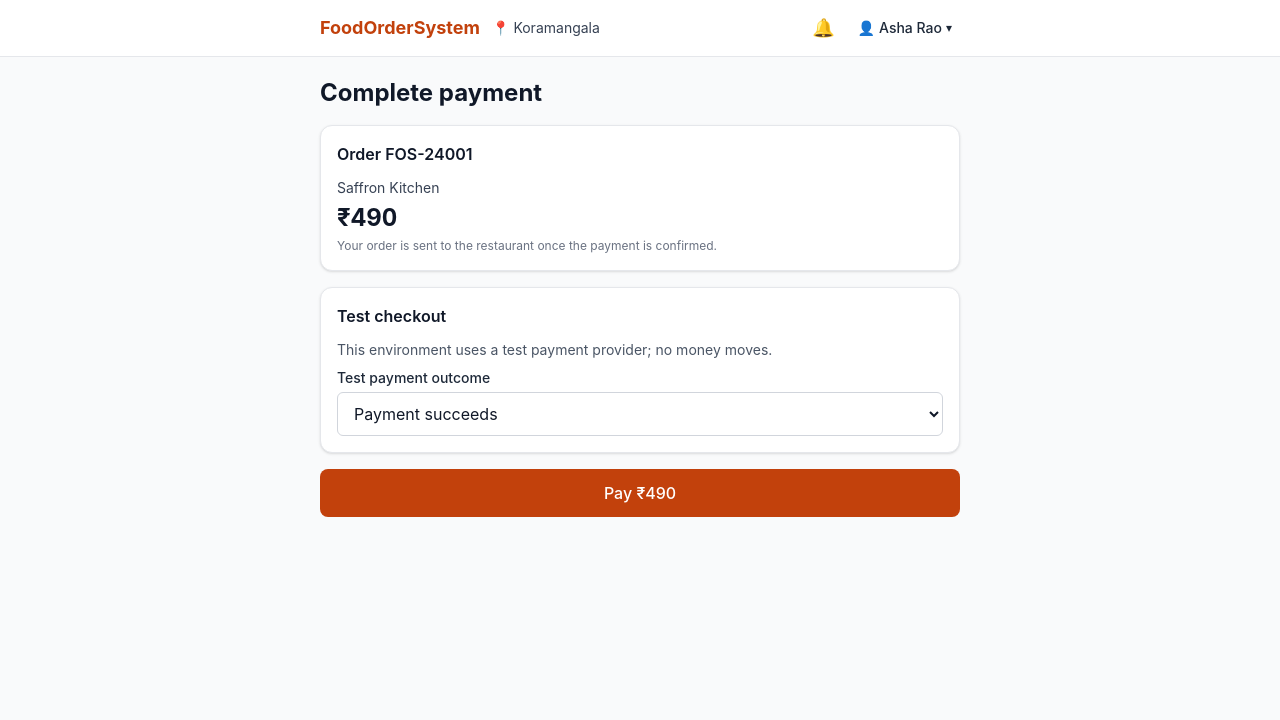
Test case: customer ordering journey › reads the bank’s decline as a sentence before offering a retry
Step 1. Click the button "Pay ₹490" → (640, 493), box [320,469,960,517]
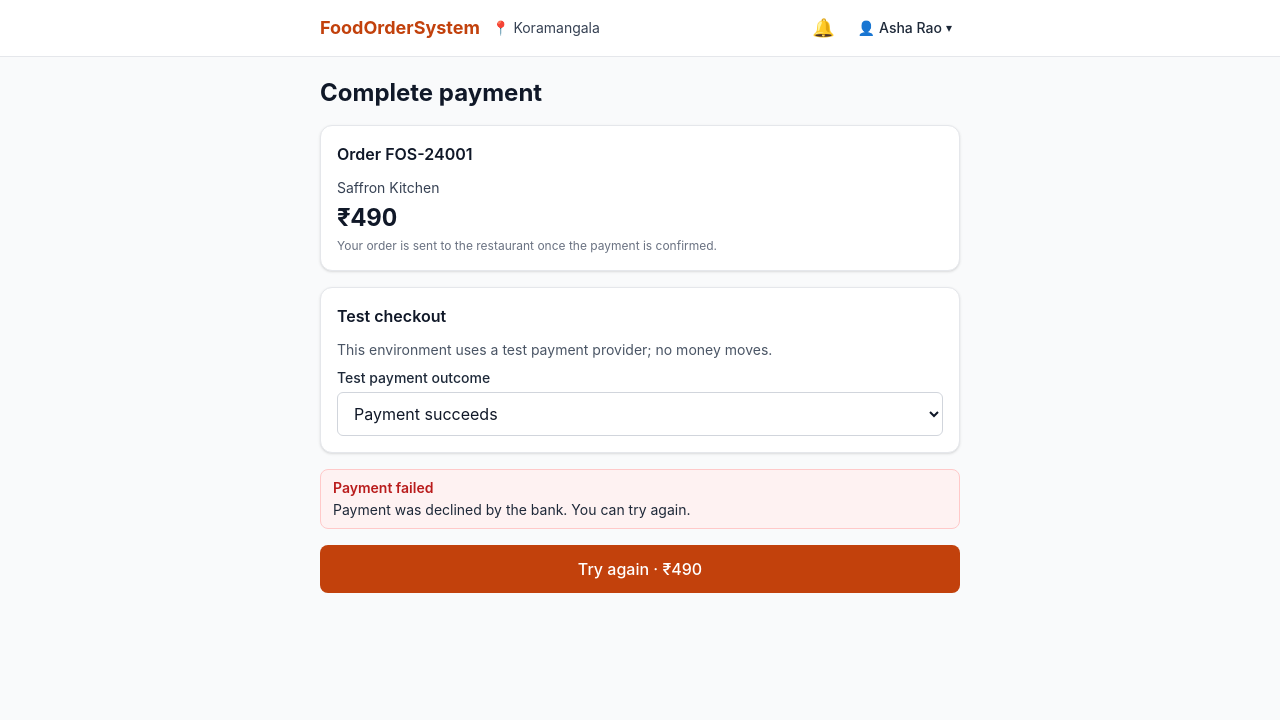
expect the text "Payment was declined by the bank. You can try again." is shown: met, box [333,501,690,518]
